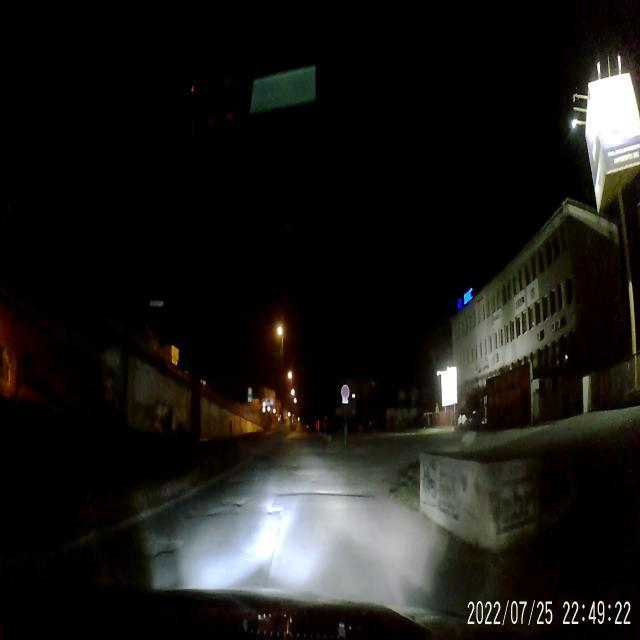Pothole: (152, 533, 186, 553), (187, 509, 234, 521), (222, 492, 246, 508), (268, 504, 280, 524)
Unmarked Bump: (278, 486, 376, 499)
